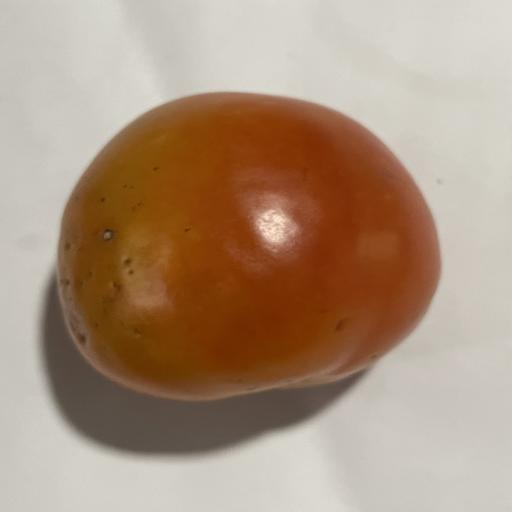overipe: (58, 93, 440, 400)
